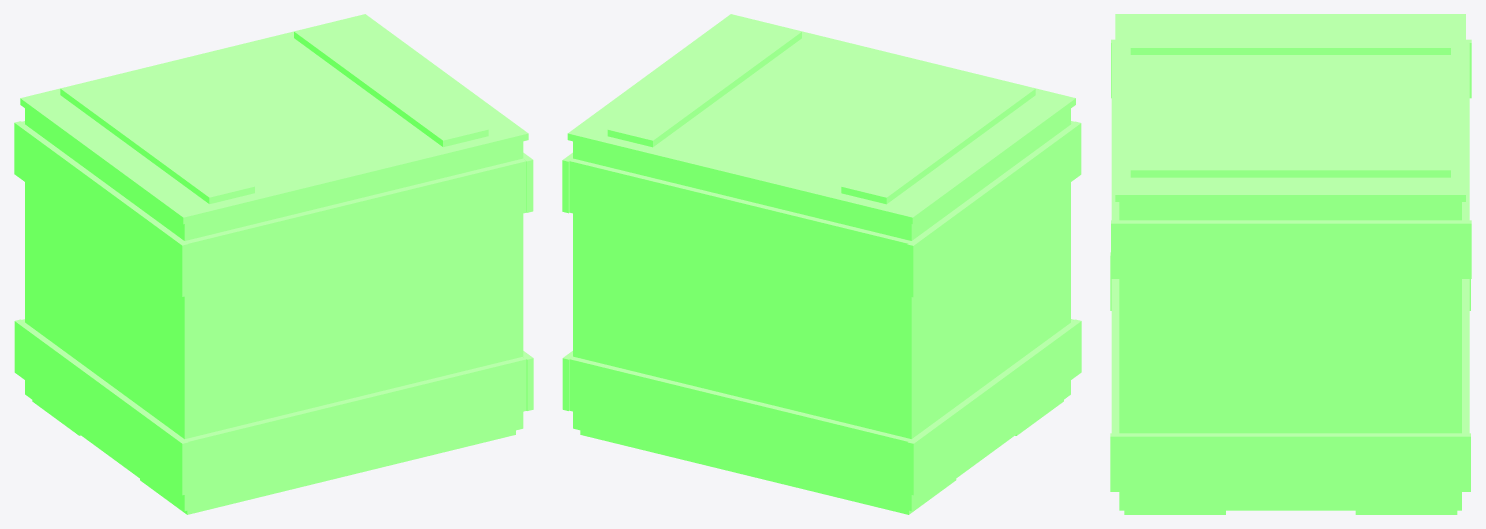
Rendered from non breakable emissive box.FBX.
The picture shows the model from 3 angles, left to right: view 1: azimuth 30°, elevation 25°; view 2: azimuth 150°, elevation 25°; view 3: azimuth 270°, elevation 25°; orthographic projection. The views are drawn at different scales.
Parts seen in each view (by area): view 1: Wooden_Crate; view 2: Wooden_Crate; view 3: Wooden_Crate.
Boxes of the visible parts, x1=… form: Wooden_Crate: x1=14, y1=14, x2=533, y2=514; Wooden_Crate: x1=562, y1=14, x2=1081, y2=514; Wooden_Crate: x1=1110, y1=14, x2=1471, y2=514.
Bounding box in the file's own units: 47.94 × 39.77 × 40.3.
